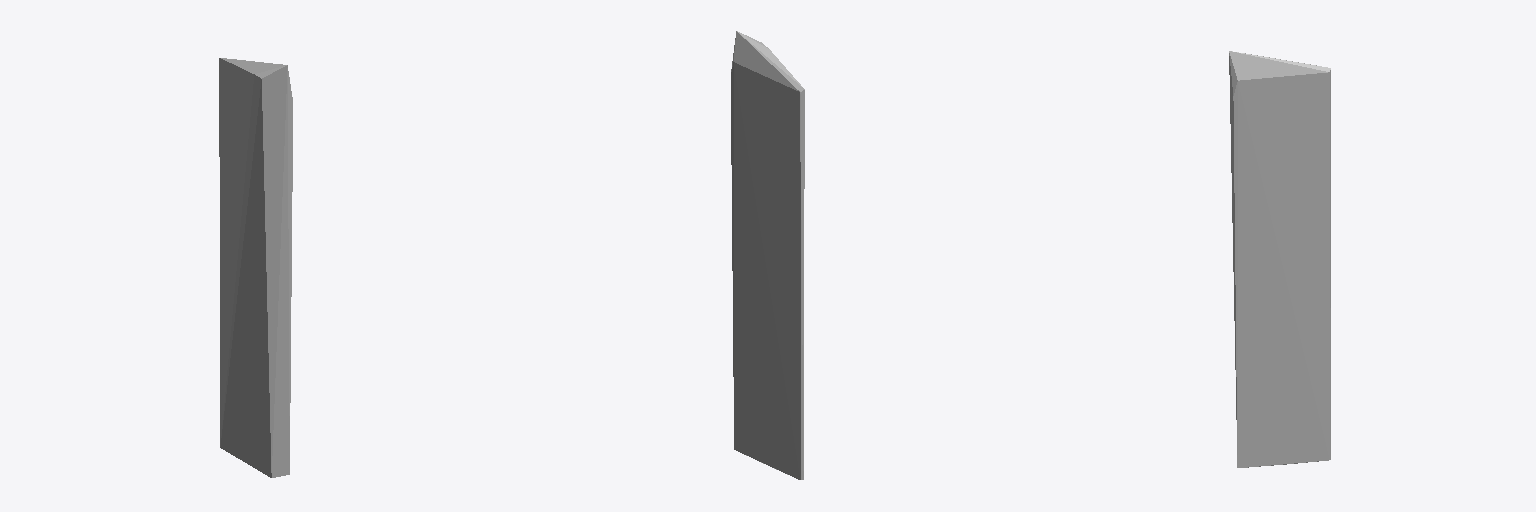
Rendered from dish_rack_collision_7.obj.
3 renders of one model, left to right at view 1: azimuth 30°, elevation 25°; view 2: azimuth 210°, elevation 25°; view 3: azimuth 270°, elevation 25°, orthographic.
Bounding box in the file's own units: 0.012 × 0.169 × 0.0375.